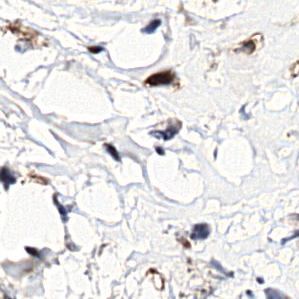Lymphocyte: (144, 67, 181, 88)
